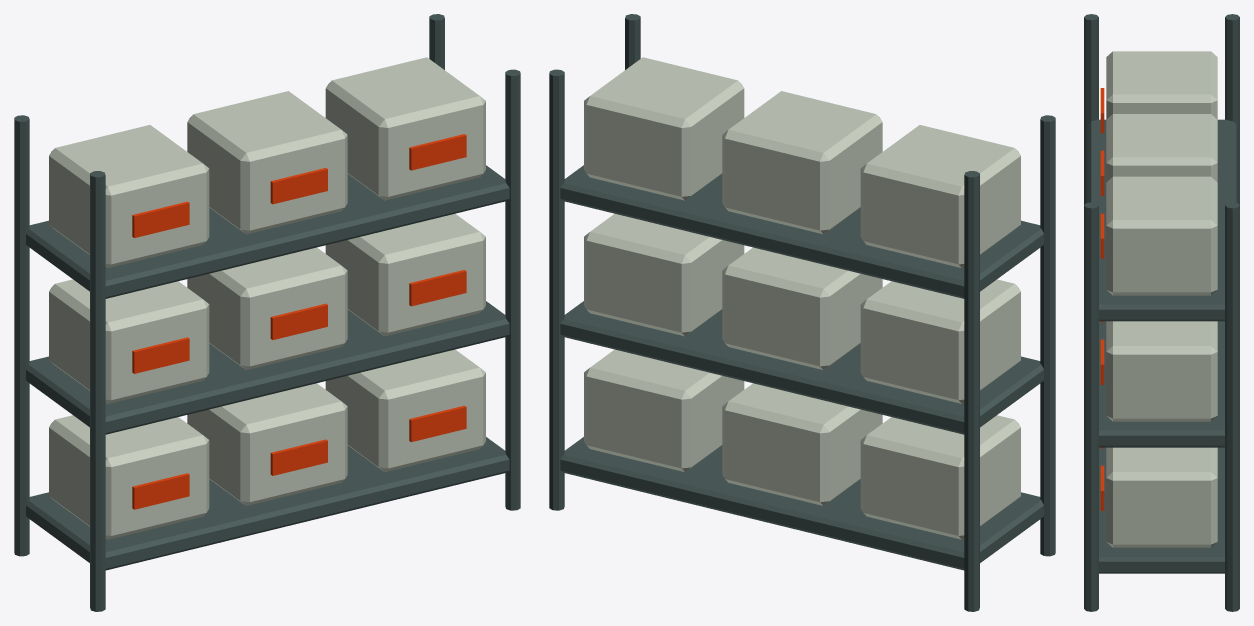
The model's file is SM_MP_Seed_Rack.fbx.
3 views of the same model, side by side, from view 1: azimuth 30°, elevation 25°; view 2: azimuth 150°, elevation 25°; view 3: azimuth 270°, elevation 25° (orthographic). The views are drawn at different scales.
Parts seen in each view (by area): view 1: SM_MP_Seed_Rack; view 2: SM_MP_Seed_Rack; view 3: SM_MP_Seed_Rack.
Part boxes in pixels (x1,y1,x2,y2): SM_MP_Seed_Rack: (14,14,520,611); SM_MP_Seed_Rack: (549,14,1055,611); SM_MP_Seed_Rack: (1084,14,1239,611).
Size of the model in its own units: 248 by 84 by 240.
1 material, 1 textured.
